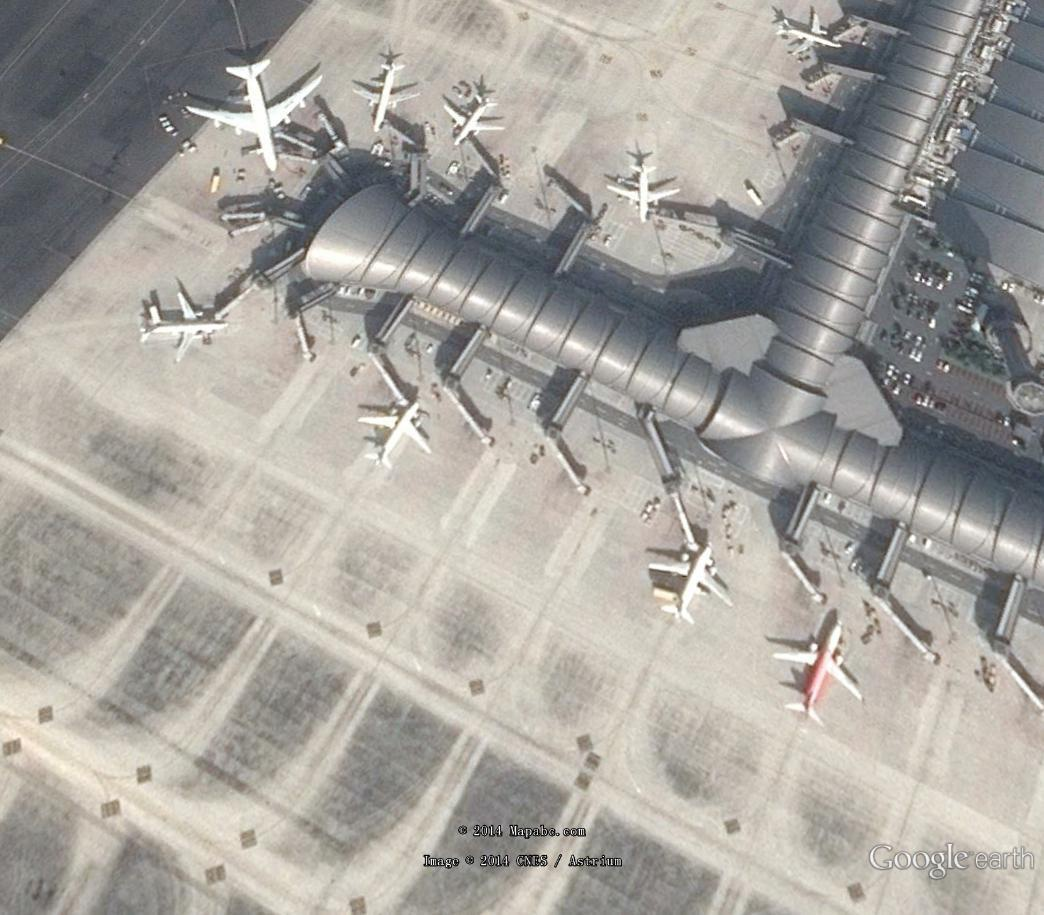aircraft: (181, 51, 328, 175), (769, 613, 864, 730), (645, 537, 736, 634), (135, 288, 232, 364), (349, 400, 438, 475), (351, 57, 424, 139), (604, 160, 684, 225), (438, 88, 508, 148), (774, 7, 849, 60)
